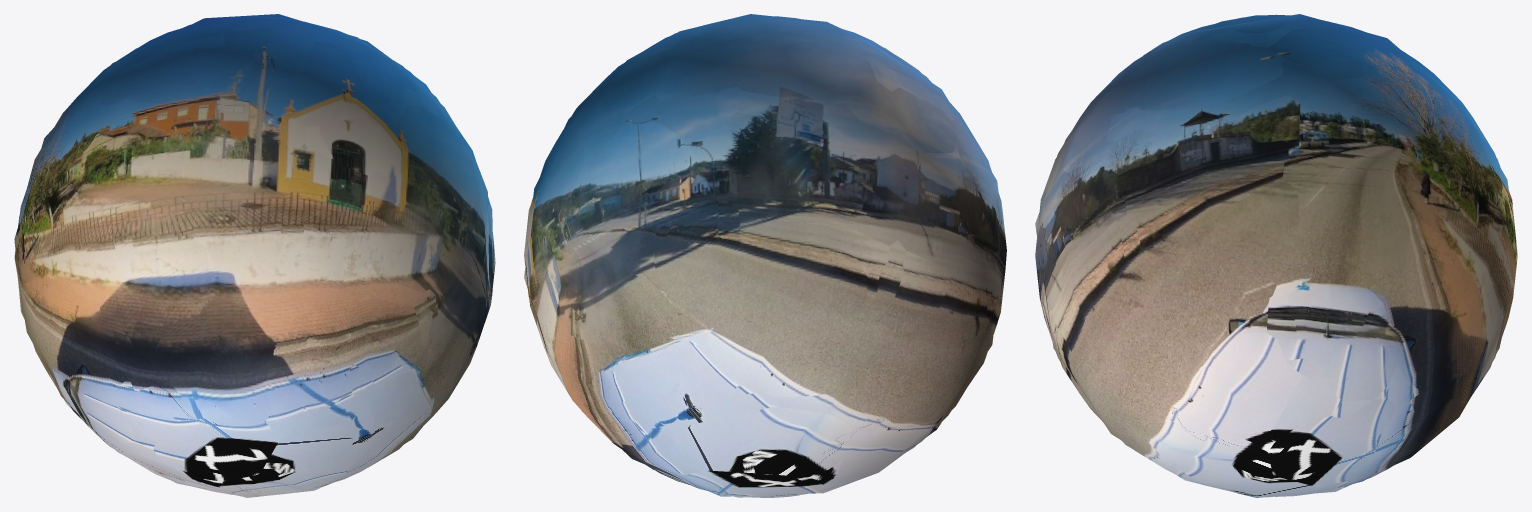
Rendered from __lods__Overtaking-13.glb.
3 views of the same model, side by side, from view 1: azimuth 30°, elevation 25°; view 2: azimuth 150°, elevation 25°; view 3: azimuth 270°, elevation 25° (orthographic).
Parts seen in each view (by area): view 1: __LOD_2__Sphere, __LOD_1__Sphere, __LOD_0__Sphere; view 2: __LOD_2__Sphere, __LOD_1__Sphere, __LOD_0__Sphere; view 3: __LOD_2__Sphere, __LOD_1__Sphere, __LOD_0__Sphere.
Part boxes in pixels (x1=…): __LOD_2__Sphere: x1=14, y1=14, x2=489, y2=497; __LOD_1__Sphere: x1=14, y1=15, x2=493, y2=496; __LOD_0__Sphere: x1=16, y1=16, x2=495, y2=494; __LOD_2__Sphere: x1=524, y1=14, x2=998, y2=496; __LOD_1__Sphere: x1=524, y1=15, x2=1006, y2=497; __LOD_0__Sphere: x1=525, y1=16, x2=1006, y2=497; __LOD_2__Sphere: x1=1035, y1=14, x2=1517, y2=497; __LOD_1__Sphere: x1=1035, y1=15, x2=1517, y2=497; __LOD_0__Sphere: x1=1035, y1=14, x2=1517, y2=496.
Size of the model in its own units: 2 by 2 by 2.
1 material, 1 textured.
